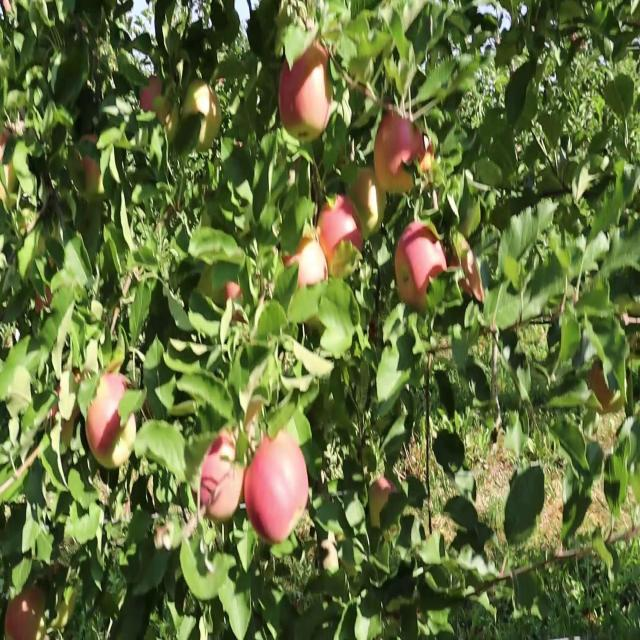apple: (248, 426, 311, 540), (280, 35, 335, 142), (88, 369, 137, 473), (372, 106, 427, 197), (396, 227, 448, 313), (200, 433, 244, 524), (296, 42, 334, 144), (320, 191, 365, 272), (184, 78, 224, 155), (284, 234, 328, 290), (352, 170, 385, 240), (4, 590, 44, 639), (52, 383, 80, 446), (452, 241, 479, 297), (588, 362, 618, 412), (76, 135, 103, 188), (300, 241, 329, 290), (0, 127, 19, 197), (0, 149, 19, 201), (372, 476, 396, 517), (420, 127, 437, 183), (140, 78, 165, 116), (417, 135, 436, 183), (160, 106, 180, 148), (224, 284, 245, 324), (0, 120, 16, 164), (36, 284, 53, 315)
